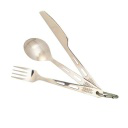fork: (10, 62, 118, 101)
